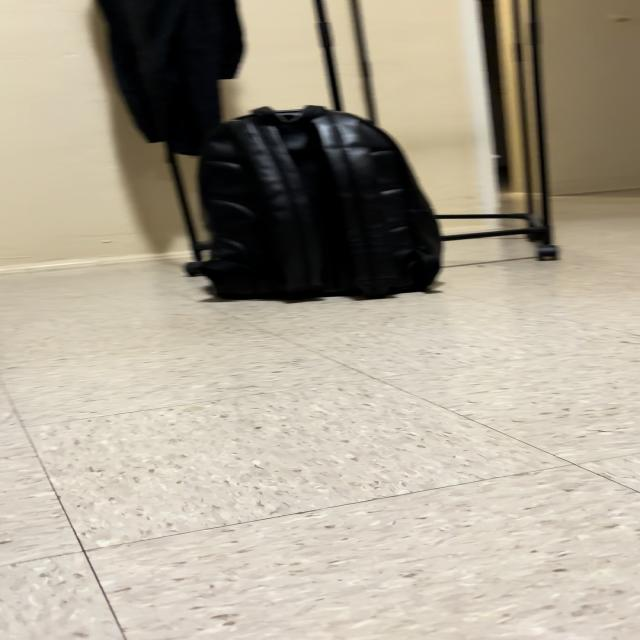backpack: (200, 106, 440, 299)
